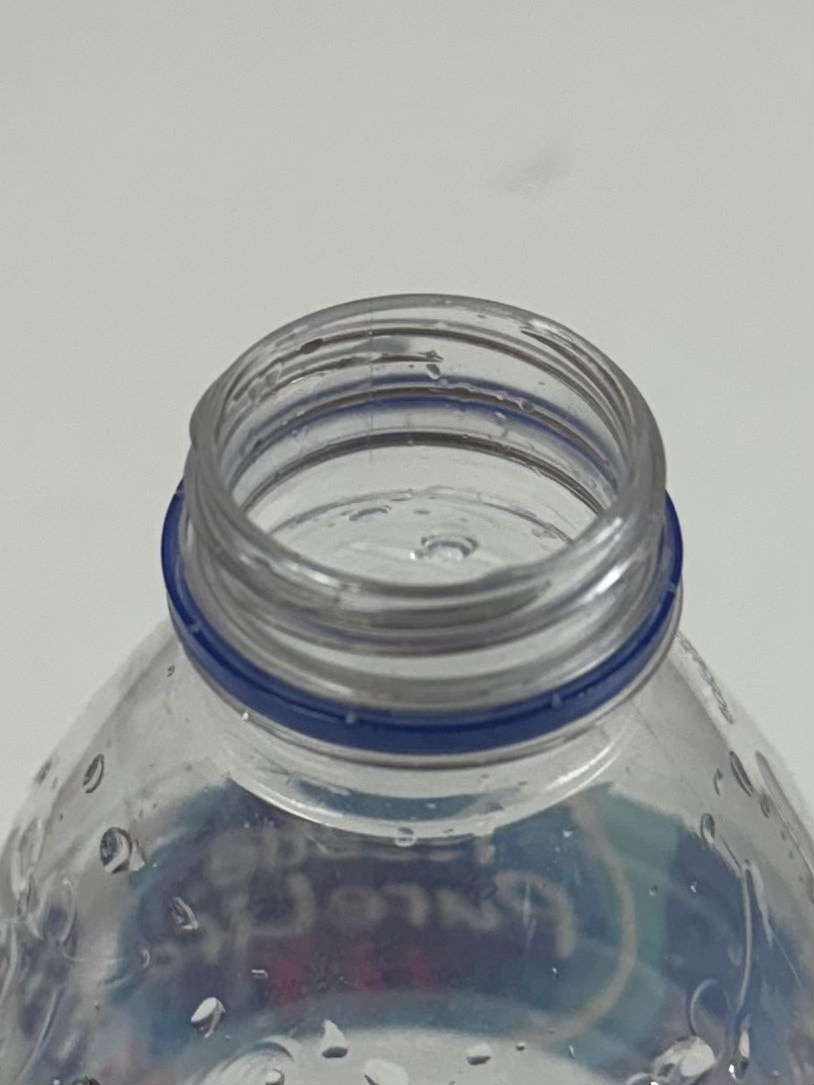no_cap: (157, 286, 695, 782)
